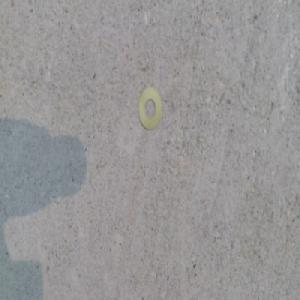Washer: (136, 90, 161, 136)
